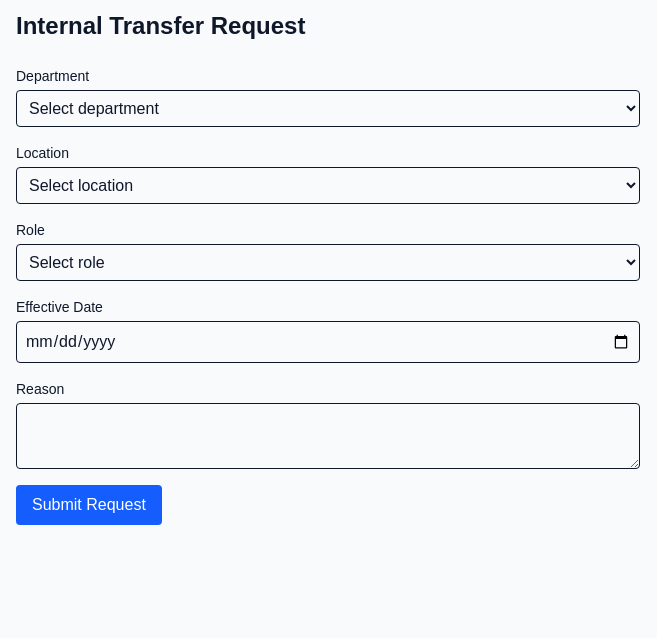
employee-internal-transfer — T04: Approved Form Validation (UT05 / AC05 / AC03) › clears inline validation error when user fills the missing field
This screenshot has width=657, height=638.
Click the button "Submit Request" at (89, 505), box x1=16 y1=485 x2=162 y2=525
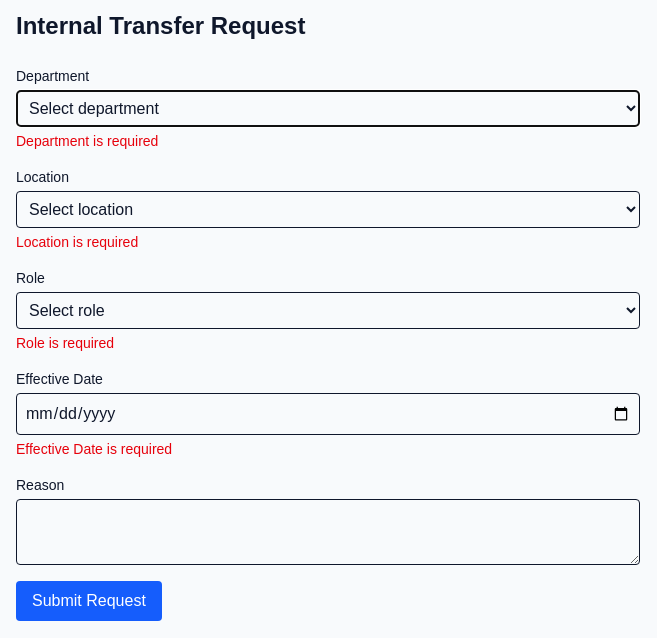
Check: the text "Department is required" is shown, box x1=16 y1=133 x2=158 y2=149
Select "Engineering" in the dropdown labelled "Department" at (328, 108), box x1=16 y1=90 x2=640 y2=127
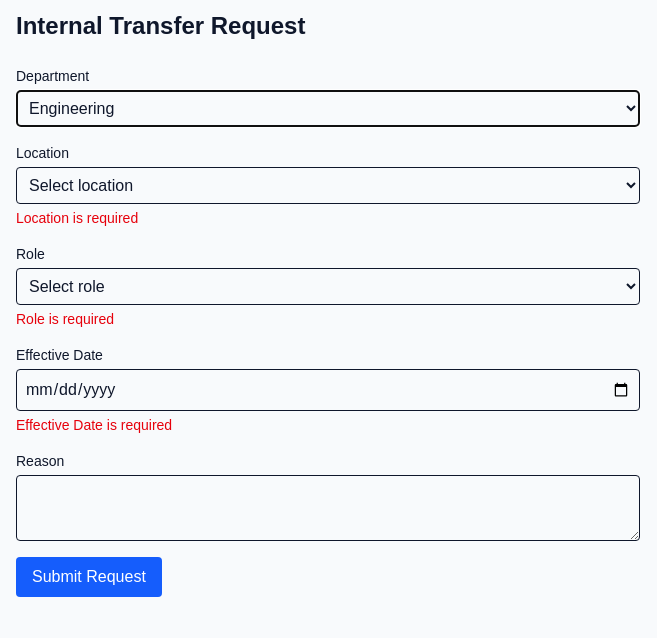
Check: the text "Department is required" is gone
